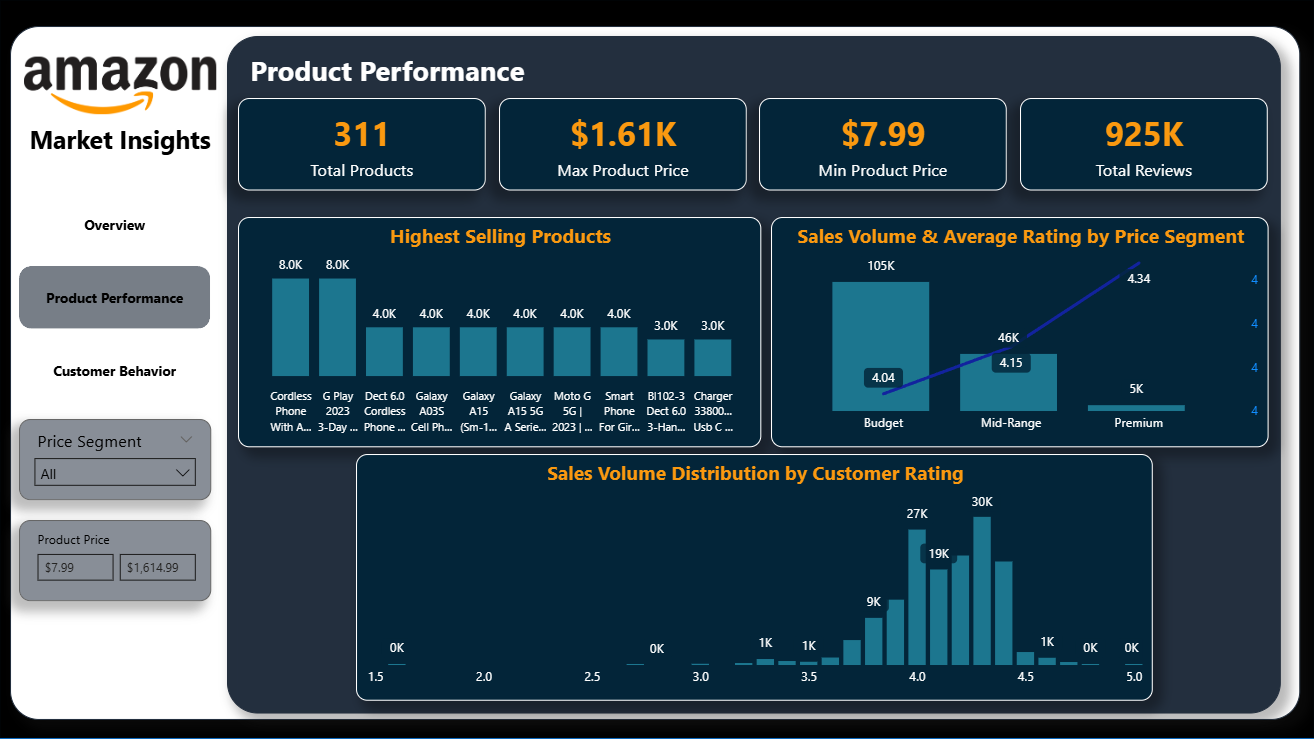

Layout of this report page (visuals, bound fields, positions):
{"tool":"powerbi","page":{"name":"Product Performance","canvas":[1280,720],"ordinal":1},"visuals":[{"type":"shape","box":[0,0,1280,719.8],"z":0},{"type":"shape","box":[10.7,26.3,1254.7,675],"z":1000},{"type":"shape","box":[221.8,36,1025.2,659],"z":2000},{"type":"textbox","box":[24.3,114.8,186.7,45.7],"z":3000},{"type":"pageNavigator","box":[19.5,188.7,186.7,204.3],"z":4000},{"type":"image","box":[24.3,34,186.7,100.2],"z":5000},{"type":"card","fields":{"Values":["Count(phone search (1).asin)"]},"box":[232.5,96.3,241.2,90.5],"z":6000},{"type":"textbox","box":[239.3,45.7,286.9,66.1],"z":7000},{"type":"card","fields":{"Values":["Max(phone search (1).product_price)"]},"box":[486,96.3,241.2,90.5],"z":8000},{"type":"card","fields":{"Values":["Min(phone search (1).product_price)"]},"box":[739.5,96.3,241.2,90.5],"z":9000},{"type":"card","fields":{"Values":["--Measures.Total_Reviews_Count"]},"box":[993.1,96.3,241.2,90.5],"z":10000},{"type":"clusteredColumnChart","title":"Highest Selling Products","fields":{"Category":["phone search (1).product_title"],"Y":["Sum(phone search (1).CLeand_sales_volume)"]},"box":[232.5,212,508.7,223.7],"z":11000},{"type":"lineClusteredColumnComboChart","title":"Sales Volume & Average Rating by Price Segment","fields":{"Category":["phone search (1).Price_Segment"],"Y":["Sum(phone search (1).CLeand_sales_volume)"],"Y2":["Avg(phone search (1).product_star_rating)"]},"box":[750.9,212,484.4,223.7],"z":12000},{"type":"clusteredColumnChart","title":"Sales Volume Distribution by Customer Rating","fields":{"Category":["phone search (1).product_star_rating"],"Y":["Sum(phone search (1).CLeand_sales_volume)"]},"box":[347.2,442.6,775.2,240.2],"z":13000},{"type":"slicer","fields":{"Values":["phone search (1).Price_Segment"]},"box":[19.5,408.5,186.7,78.8],"z":13001},{"type":"slicer","fields":{"Values":["phone search (1).product_price"]},"box":[19.5,506.7,186.7,78.8],"z":13002}]}

Visuals, with their boxes in screenshot pixels (x1, y1, x2, y2), scaled from the page's 1280x720 canvas onto the 1314x739 screenshot:
shape: [x1=0, y1=0, x2=1313, y2=738]
shape: [x1=11, y1=27, x2=1299, y2=720]
shape: [x1=228, y1=37, x2=1280, y2=713]
textbox: [x1=25, y1=118, x2=217, y2=165]
pageNavigator: [x1=20, y1=194, x2=212, y2=403]
image: [x1=25, y1=35, x2=217, y2=138]
card - Count(phone search (1).asin): [x1=239, y1=99, x2=486, y2=192]
textbox: [x1=246, y1=47, x2=540, y2=115]
card - Max(phone search (1).product_price): [x1=499, y1=99, x2=747, y2=192]
card - Min(phone search (1).product_price): [x1=759, y1=99, x2=1007, y2=192]
card - --Measures.Total_Reviews_Count: [x1=1019, y1=99, x2=1267, y2=192]
"Highest Selling Products" clusteredColumnChart: [x1=239, y1=218, x2=761, y2=447]
"Sales Volume & Average Rating by Price Segment" lineClusteredColumnComboChart: [x1=771, y1=218, x2=1268, y2=447]
"Sales Volume Distribution by Customer Rating" clusteredColumnChart: [x1=356, y1=454, x2=1152, y2=701]
slicer - phone search (1).Price_Segment: [x1=20, y1=419, x2=212, y2=500]
slicer - phone search (1).product_price: [x1=20, y1=520, x2=212, y2=601]
